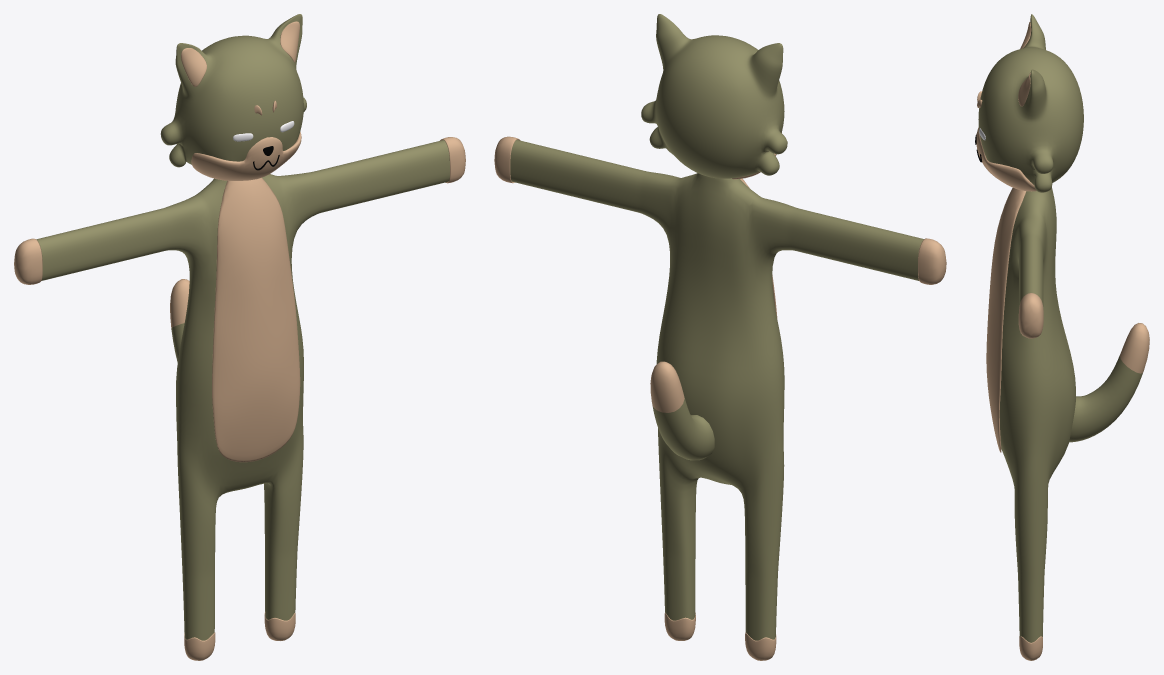
File: robert.glb
3 renders of one model, left to right at view 1: azimuth 30°, elevation 25°; view 2: azimuth 150°, elevation 25°; view 3: azimuth 270°, elevation 25°, orthographic. The views are drawn at different scales.
Visible parts, largest first — view 1: Cube.009, Cube.013, Cube.008, Cube.012, Cube.010, Cube.011, Plane.009; view 2: Cube.009, Cube.008, Plane.009, Cube.012; view 3: Cube.009, Cube.008, Plane.009, Cube.013, Cube.012, Cube.010, Cube.011.
Part boxes in pixels (x1,y1,x2,y2): Cube.009: [36, 140, 449, 640]; Cube.013: [212, 177, 300, 462]; Cube.008: [160, 14, 306, 167]; Cube.012: [14, 137, 465, 660]; Cube.010: [191, 132, 301, 180]; Cube.011: [181, 21, 299, 86]; Plane.009: [170, 279, 189, 362]; Cube.009: [510, 139, 923, 640]; Cube.008: [641, 14, 787, 178]; Plane.009: [650, 361, 714, 460]; Cube.012: [494, 136, 946, 660]; Cube.009: [999, 187, 1075, 642]; Cube.008: [978, 14, 1083, 192]; Plane.009: [1069, 323, 1149, 442]; Cube.013: [986, 188, 1026, 452]; Cube.012: [1018, 293, 1043, 660]; Cube.010: [976, 127, 1036, 191]; Cube.011: [1018, 22, 1031, 106].
Size of the model in its own units: 6.81 by 9.03 by 2.39.
